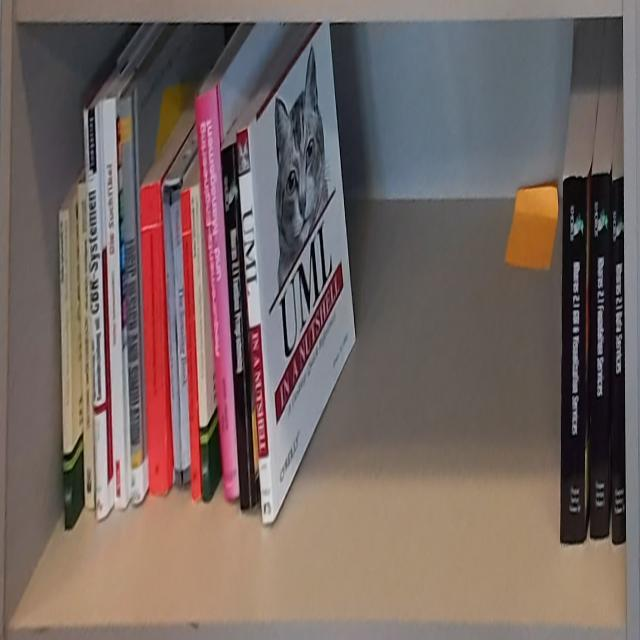Book Spine: (194, 92, 240, 505), (237, 128, 274, 527), (221, 140, 258, 516), (83, 110, 110, 527), (559, 177, 588, 545), (118, 97, 144, 507), (101, 100, 126, 510), (140, 179, 168, 495), (588, 174, 612, 541), (190, 185, 211, 503), (182, 191, 203, 506), (77, 183, 95, 513), (162, 194, 182, 490), (610, 174, 625, 547), (172, 194, 191, 486), (59, 208, 75, 530)
